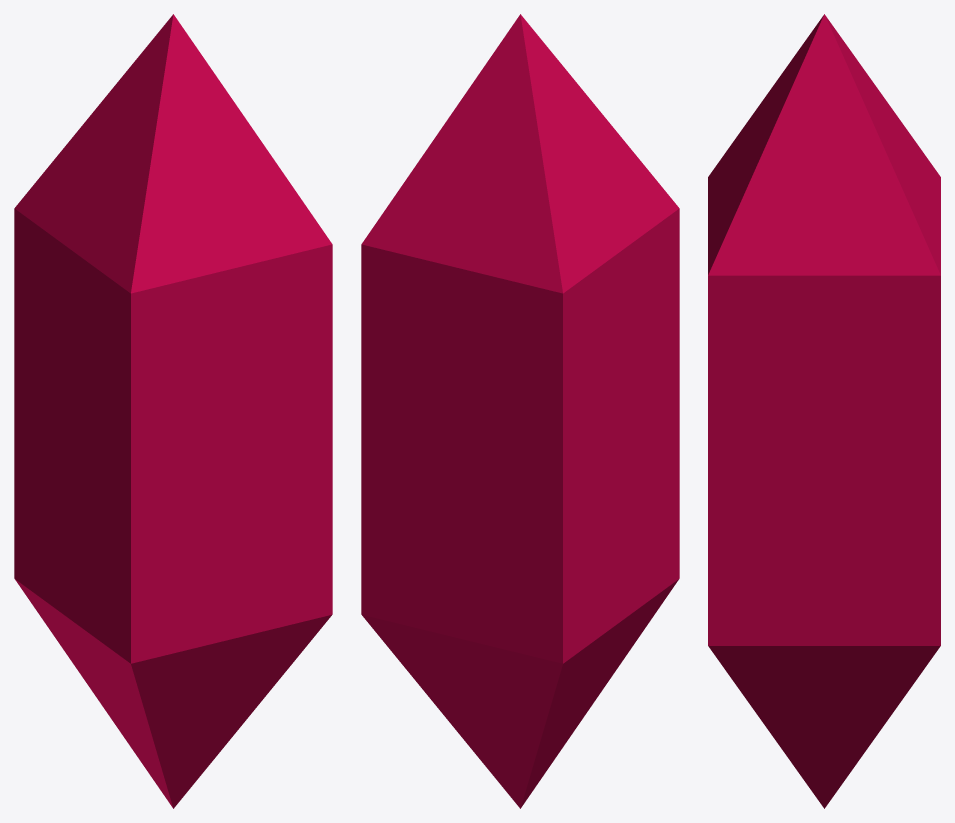
File: left_arm_lower.obj
The picture shows the model from 3 angles, left to right: view 1: azimuth 30°, elevation 25°; view 2: azimuth 150°, elevation 25°; view 3: azimuth 270°, elevation 25°; orthographic projection.
Visible parts, largest first — view 1: left_arm_lower; view 2: left_arm_lower; view 3: left_arm_lower.
Boxes of the visible parts, <box> form: left_arm_lower: <box>14,14,332,808</box>; left_arm_lower: <box>361,14,679,808</box>; left_arm_lower: <box>708,14,940,808</box>.
Bounding box in the file's own units: 0.499 × 1.88 × 0.499.
